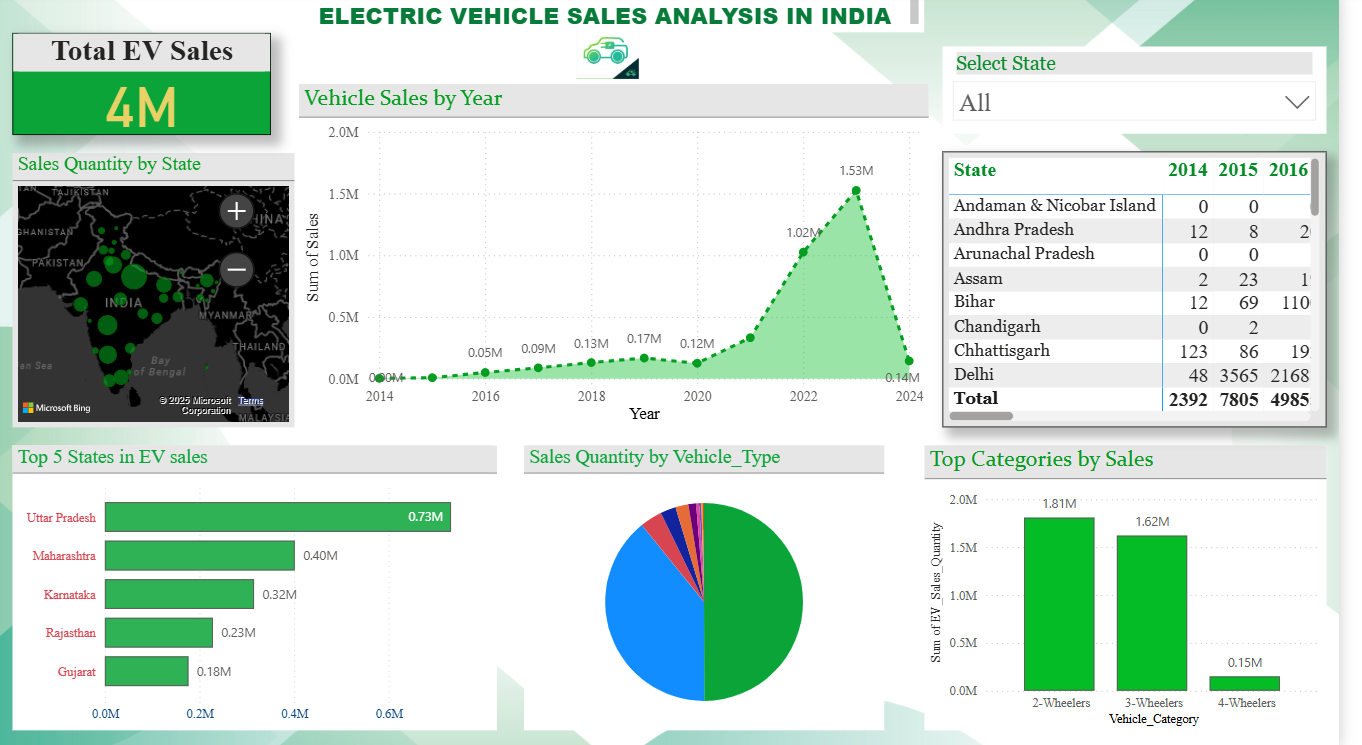

Layout of this report page (visuals, bound fields, positions):
{"tool":"powerbi","page":{"name":"Page 1","canvas":[1280,720],"ordinal":0},"visuals":[{"type":"textbox","box":[281.6,0,601.1,36.3],"z":0},{"type":"clusteredColumnChart","title":"Top Categories by Sales","fields":{"Category":["Electric Vehicle Sales by State in India.Vehicle_Category"],"Y":["Sum(Electric Vehicle Sales by State in India.EV_Sales_Quantity)"]},"box":[883.8,431.1,383.9,272.2],"z":1000},{"type":"areaChart","title":"Vehicle Sales by Year","fields":{"Category":["Electric Vehicle Sales by State in India.Date.Variation.Date Hierarchy.Year"],"Y":["Sum(Electric Vehicle Sales by State in India.EV_Sales_Quantity)"]},"box":[286.5,85.9,601.6,328],"z":2000},{"type":"map","title":"Sales Quantity by State","fields":{"Category":["Electric Vehicle Sales by State in India.State"],"Size":["Sum(Electric Vehicle Sales by State in India.EV_Sales_Quantity)"]},"box":[12.9,151.8,269.3,262.1],"z":3000},{"type":"pieChart","title":"Sales Quantity by Vehicle_Type","fields":{"Category":["Electric Vehicle Sales by State in India.Vehicle_Type"],"Y":["Sum(Electric Vehicle Sales by State in India.EV_Sales_Quantity)"]},"box":[501.3,431.1,343.8,272.2],"z":4000},{"type":"clusteredBarChart","title":"Top 5 States in EV sales","fields":{"Category":["Electric Vehicle Sales by State in India.State"],"Y":["Sum(Electric Vehicle Sales by State in India.EV_Sales_Quantity)"]},"box":[12.9,431.1,462.7,272.2],"z":5000},{"type":"card","title":"Total EV Sales","fields":{"Values":["Sum(Electric Vehicle Sales by State in India.EV_Sales_Quantity)"]},"box":[12.9,37.2,246.4,97.4],"z":6000},{"type":"pivotTable","fields":{"Rows":["Electric Vehicle Sales by State in India.State"],"Columns":["Electric Vehicle Sales by State in India.Date.Variation.Date Hierarchy.Year"],"Values":["Sum(Electric Vehicle Sales by State in India.EV_Sales_Quantity)"]},"box":[901,149.9,366.4,263.5],"z":7000},{"type":"slicer","fields":{"Values":["Electric Vehicle Sales by State in India.State"]},"box":[901,50,366.4,83.3],"z":8000},{"type":"image","box":[544.3,25.8,74.5,60.2],"z":8001}]}

Visuals, with their boxes in screenshot pixels (x1, y1, x2, y2), scaled from the page's 1280x720 canvas onto the 1362x745 screenshot:
textbox: {"left": 300, "top": 0, "right": 939, "bottom": 38}
"Top Categories by Sales" clusteredColumnChart: {"left": 940, "top": 446, "right": 1349, "bottom": 728}
"Vehicle Sales by Year" areaChart: {"left": 305, "top": 89, "right": 945, "bottom": 428}
"Sales Quantity by State" map: {"left": 14, "top": 157, "right": 300, "bottom": 428}
"Sales Quantity by Vehicle_Type" pieChart: {"left": 533, "top": 446, "right": 899, "bottom": 728}
"Top 5 States in EV sales" clusteredBarChart: {"left": 14, "top": 446, "right": 506, "bottom": 728}
"Total EV Sales" card: {"left": 14, "top": 38, "right": 276, "bottom": 139}
pivotTable - Electric Vehicle Sales by State in India.State x Electric Vehicle Sales by State in India.Date.Variation.Date Hierarchy.Year: {"left": 959, "top": 155, "right": 1349, "bottom": 428}
slicer - Electric Vehicle Sales by State in India.State: {"left": 959, "top": 52, "right": 1349, "bottom": 138}
image: {"left": 579, "top": 27, "right": 658, "bottom": 89}
